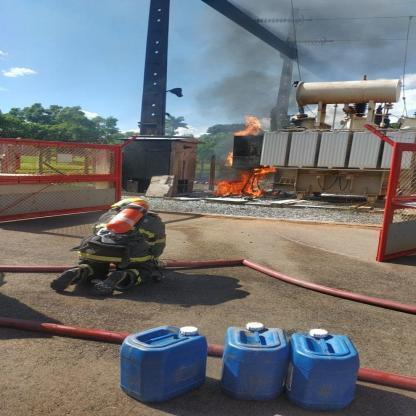Fire: (215, 113, 286, 226)
Smoke: (198, 0, 416, 131)
